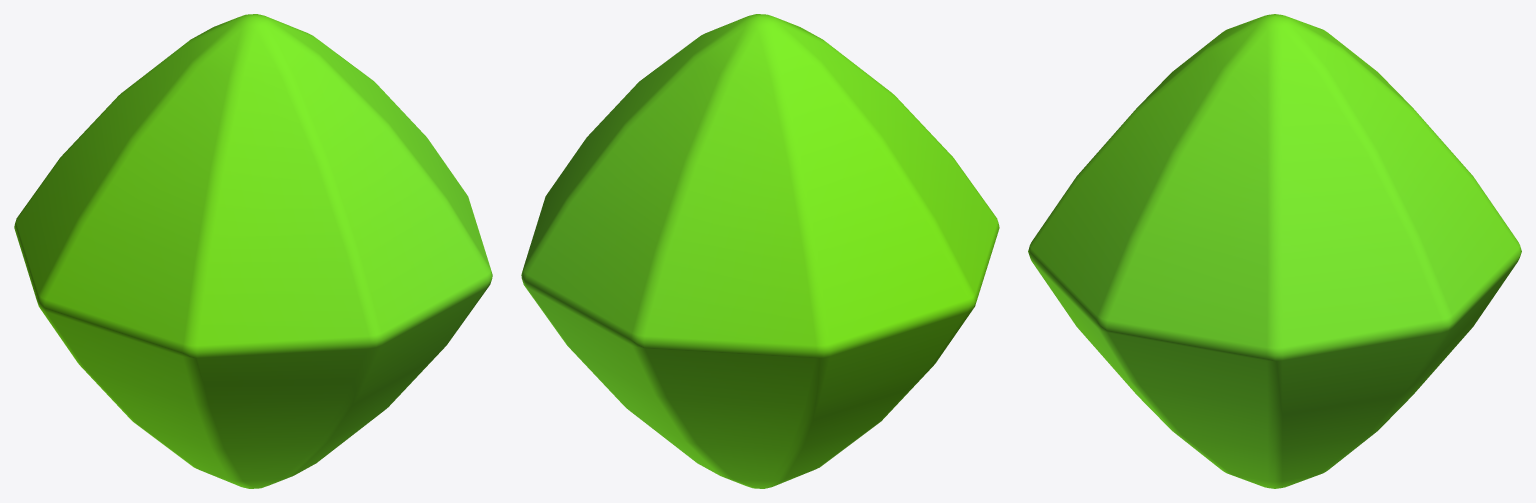
The picture shows the model from 3 angles, left to right: view 1: azimuth 30°, elevation 25°; view 2: azimuth 150°, elevation 25°; view 3: azimuth 270°, elevation 25°; orthographic projection.
Visible parts, largest first — view 1: model_0.105; view 2: model_0.105; view 3: model_0.105.
Boxes of the visible parts, x1,y1,x2,y2 form: model_0.105: [14, 14, 492, 488]; model_0.105: [521, 14, 999, 488]; model_0.105: [1028, 14, 1521, 488].
Bounding box in the file's own units: 3.48 × 3.64 × 3.48.
